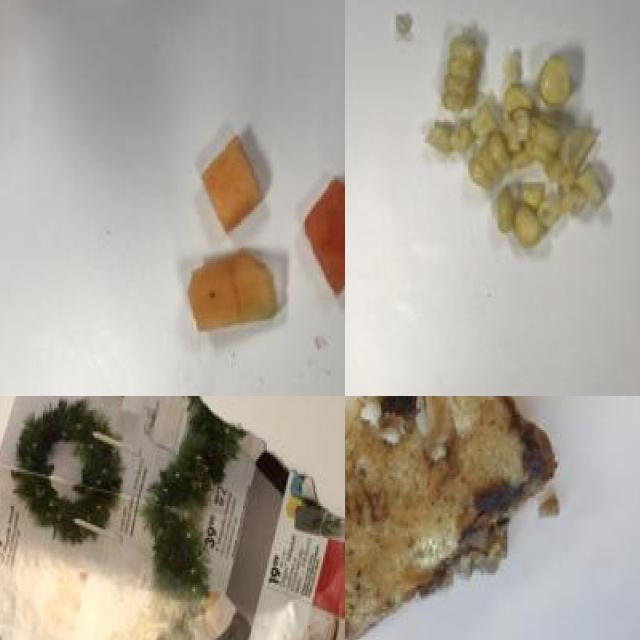compost: (410, 10, 630, 286), (345, 396, 571, 640), (157, 96, 345, 385)
paper: (0, 396, 345, 640)
